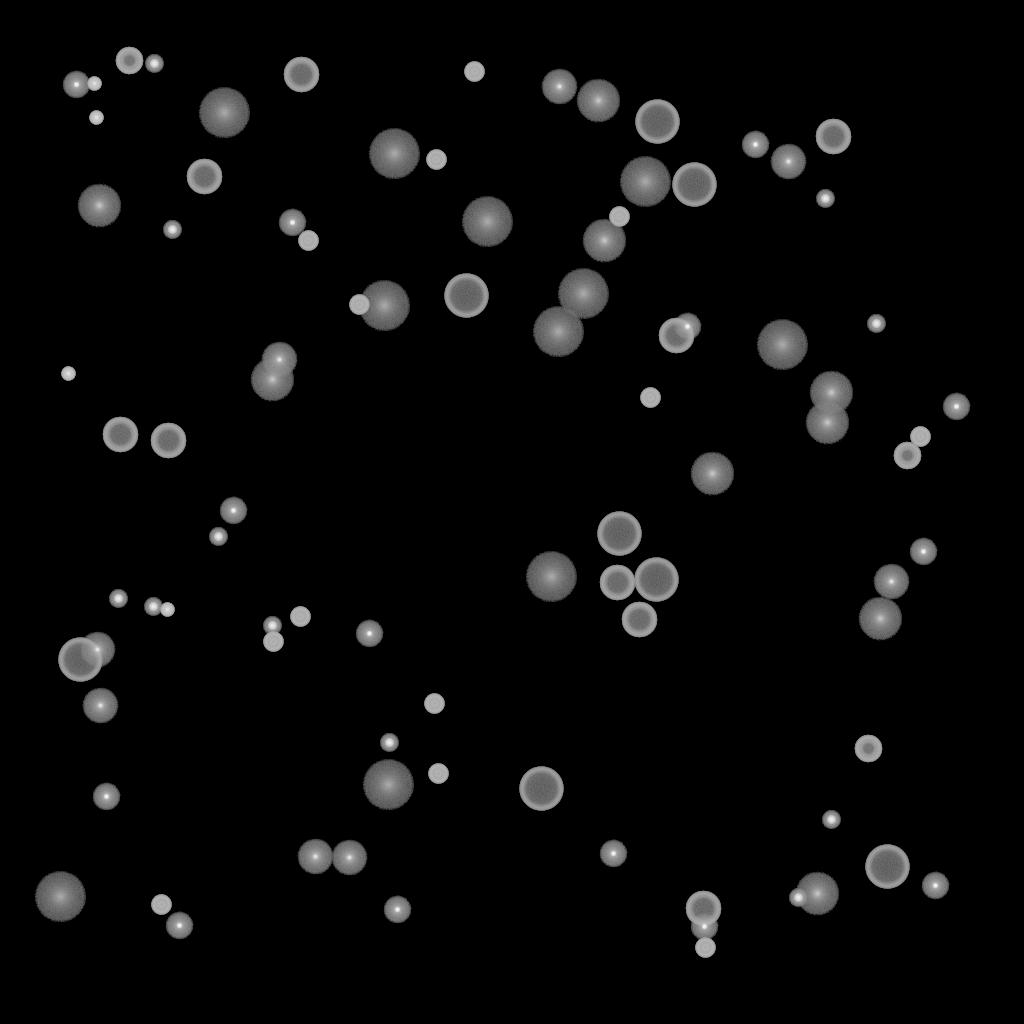depth:-10: (165, 912, 193, 940), (909, 538, 937, 566), (278, 209, 306, 237), (942, 393, 970, 421), (741, 131, 769, 159), (690, 913, 718, 941), (383, 896, 411, 924), (355, 620, 383, 648), (219, 497, 247, 525), (599, 840, 627, 868), (62, 71, 90, 99), (673, 313, 701, 341), (92, 783, 120, 811), (921, 872, 949, 900)
depth:-20: (163, 221, 181, 239), (263, 617, 281, 635), (109, 590, 127, 608), (380, 734, 398, 752), (867, 315, 885, 333), (816, 190, 834, 208), (822, 811, 840, 829), (144, 598, 162, 616), (209, 528, 227, 546), (145, 55, 163, 73), (789, 889, 807, 907)
depth:-30: (160, 603, 174, 617), (89, 111, 103, 125), (61, 367, 75, 381), (87, 77, 101, 91)
depth:-40: (640, 388, 660, 408), (263, 632, 283, 652), (298, 231, 318, 251), (426, 150, 446, 170), (349, 295, 369, 315), (910, 427, 930, 447), (290, 607, 310, 627), (424, 694, 444, 714), (609, 207, 629, 227), (695, 938, 715, 958), (428, 764, 448, 784), (464, 62, 484, 82), (151, 895, 171, 915)
depth:-50: (115, 47, 143, 75), (893, 442, 921, 470), (854, 735, 882, 763)
depth:-60: (685, 891, 721, 927), (599, 565, 635, 601), (621, 602, 657, 638), (186, 159, 222, 195), (150, 423, 186, 459), (283, 57, 319, 93), (658, 318, 694, 354), (815, 119, 851, 155), (102, 417, 138, 453)
depth:-70: (444, 274, 488, 318), (865, 845, 909, 889), (635, 100, 679, 144), (672, 163, 716, 207), (58, 638, 102, 682), (597, 512, 641, 556), (519, 767, 563, 811), (634, 558, 678, 602)
depth:0: (82, 688, 118, 724), (79, 632, 115, 668), (331, 840, 367, 876), (541, 69, 577, 105), (261, 342, 297, 378), (873, 564, 909, 600), (297, 839, 333, 875), (770, 144, 806, 180)
depth:10: (805, 401, 849, 445), (809, 371, 853, 415), (795, 872, 839, 916), (250, 358, 294, 402), (582, 219, 626, 263), (858, 597, 902, 641), (690, 452, 734, 496), (77, 184, 121, 228), (576, 79, 620, 123)
depth:20: (368, 129, 420, 179), (198, 88, 250, 138), (756, 320, 808, 370), (362, 760, 414, 810), (619, 157, 671, 207), (461, 197, 513, 247), (34, 872, 86, 922), (532, 307, 584, 357), (525, 552, 577, 602), (557, 269, 609, 319), (358, 281, 410, 331)
